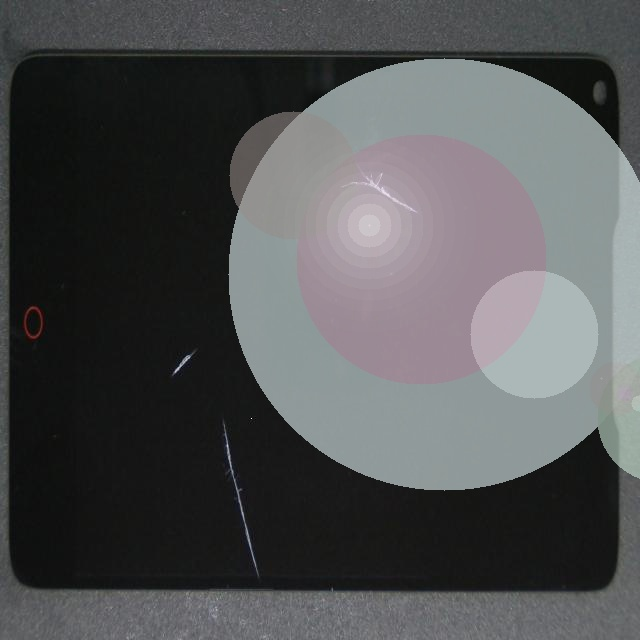scratch: (121, 185, 331, 617), (110, 143, 272, 505), (234, 87, 575, 245)
